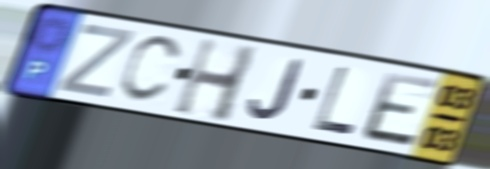C: (115, 35, 186, 106)
E: (359, 69, 443, 151)
H: (169, 34, 262, 126)
J: (246, 57, 307, 123)
L: (310, 63, 357, 138)
Z: (53, 21, 138, 101)
